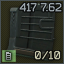HK417%5G28 7.62x51 10-round magazine: (0, 0, 64, 64)
